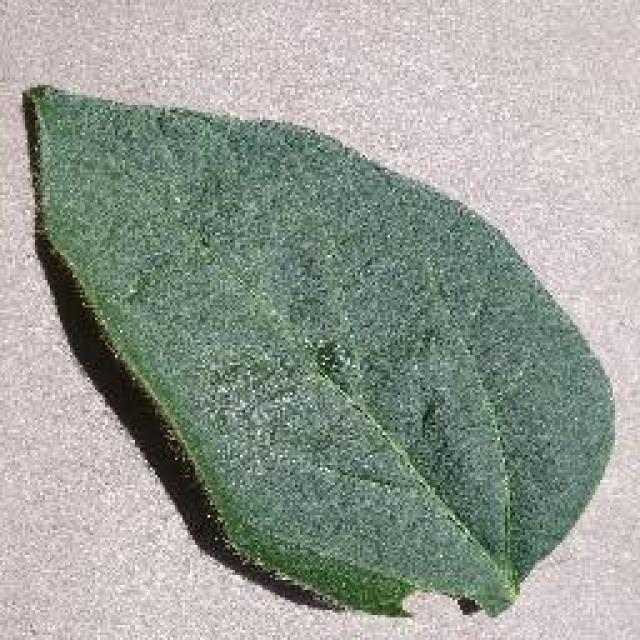Soy_healthy: (50, 118, 568, 531)
